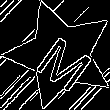M_NE: (26, 21, 95, 89)
